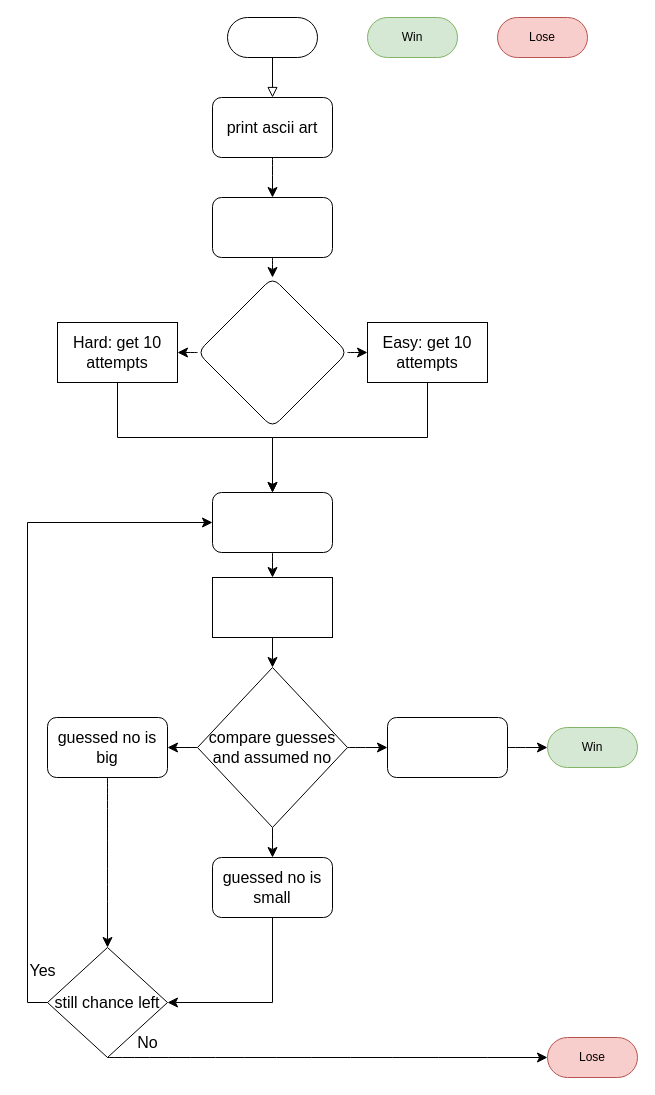
Some shapes in this 655 by 1095 pixel diagram are drawn without their labels. The shapes that lost their labels are listed below. From the top down, each one's centre as x and y in pixels, then its label:
the point at 272,37: Start
the point at 272,227: print Welcome message and number range
the point at 272,352: Choose mode: easy or hard
the point at 272,522: make a guess
the point at 272,607: reduce one chance
the point at 447,747: Guessed correctly
